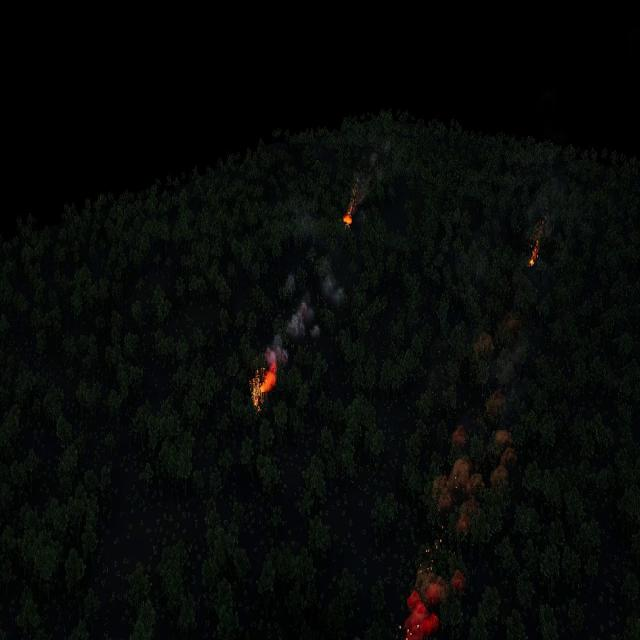fire: (251, 368, 276, 410), (529, 244, 538, 266), (344, 212, 354, 226), (431, 539, 442, 550)
smoke: (434, 390, 515, 533), (262, 270, 344, 368), (401, 572, 463, 640), (476, 314, 520, 360), (526, 194, 550, 239), (320, 273, 343, 307), (351, 171, 369, 206), (266, 342, 286, 369)
